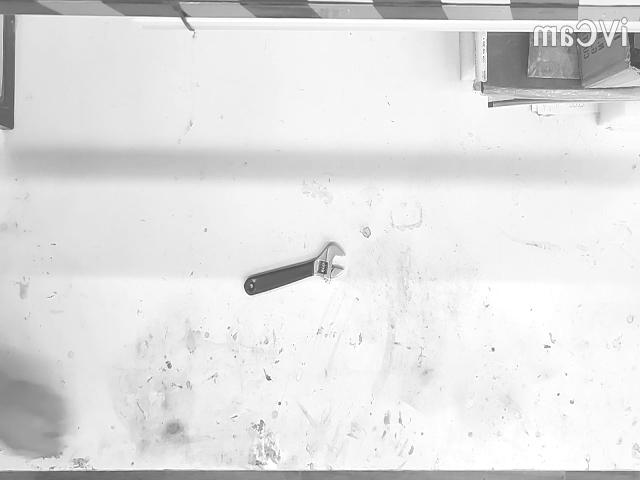Adjustable spanner: (244, 242, 345, 295)
Hand: (0, 372, 62, 458)
